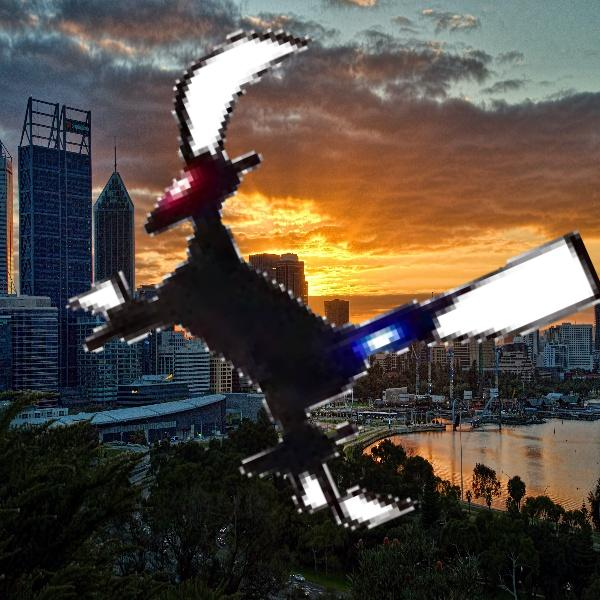drone: (48, 16, 577, 545)
